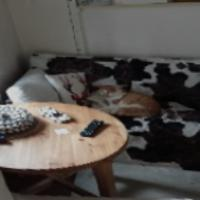asleep: (95, 83, 161, 118)
